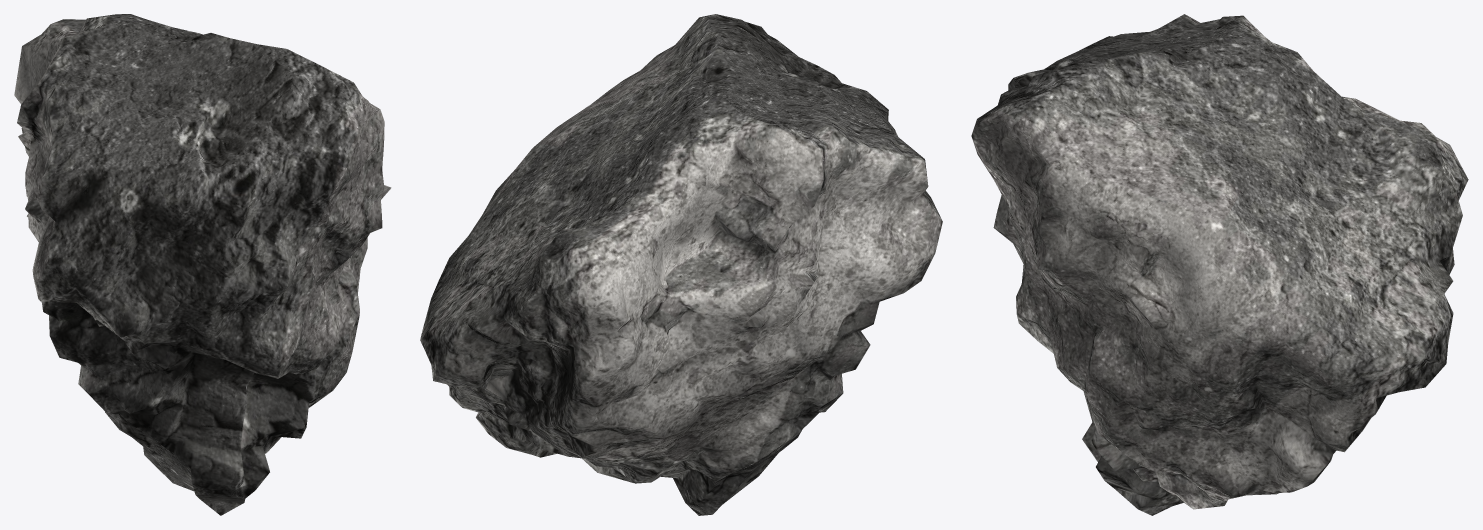
Rendered from moon-rock-a14-14321.glb.
The picture shows the model from 3 angles, left to right: view 1: azimuth 30°, elevation 25°; view 2: azimuth 150°, elevation 25°; view 3: azimuth 270°, elevation 25°; orthographic projection. The views are drawn at different scales.
Visible parts, largest first — view 1: moon-rock-a14-14321_LOD0; view 2: moon-rock-a14-14321_LOD0; view 3: moon-rock-a14-14321_LOD0.
Part boxes in pixels (x1,y1,x2,y2): moon-rock-a14-14321_LOD0: (14,14,391,515); moon-rock-a14-14321_LOD0: (420,14,942,515); moon-rock-a14-14321_LOD0: (971,14,1468,515).
Size of what is drawn, in the model's own units: 2.27 by 2.6 by 2.52.
Materials: 1 (1 with a texture image).
